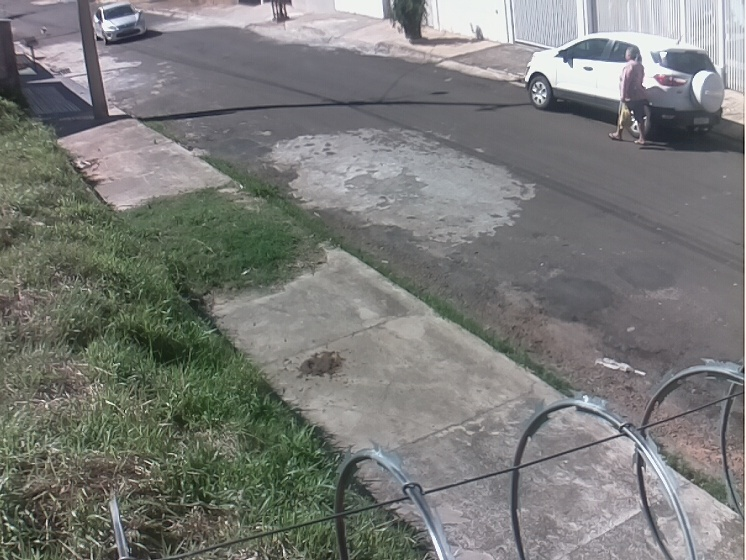person: (607, 47, 648, 146)
